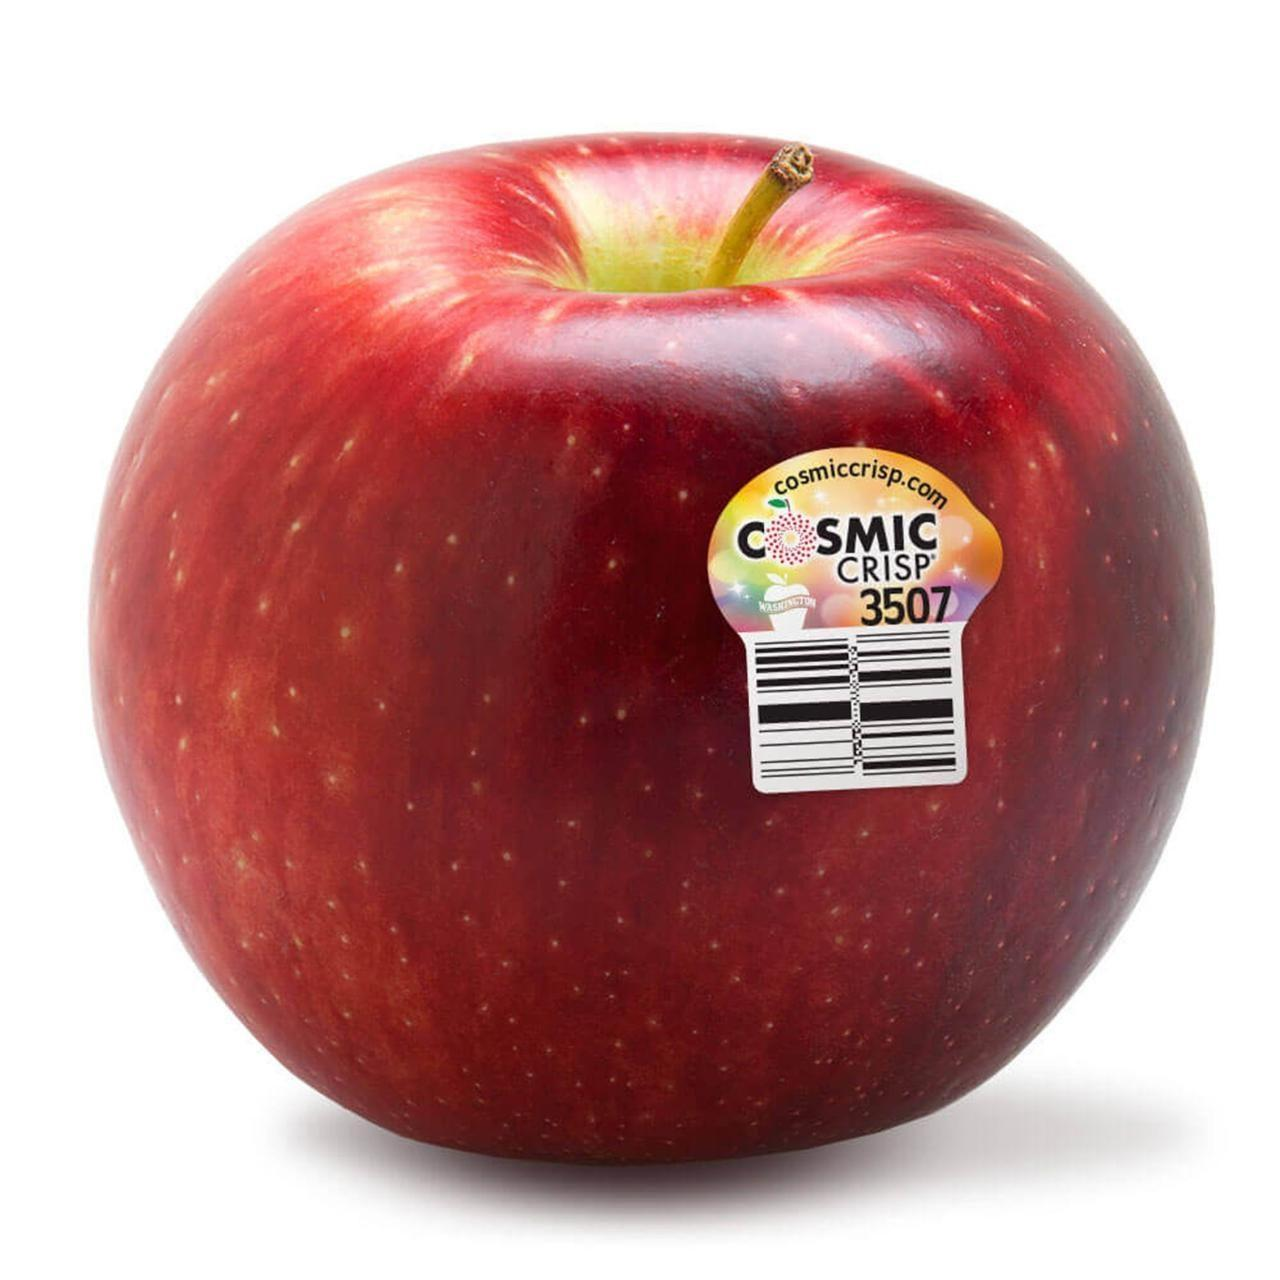apple: (84, 135, 1207, 1163)
